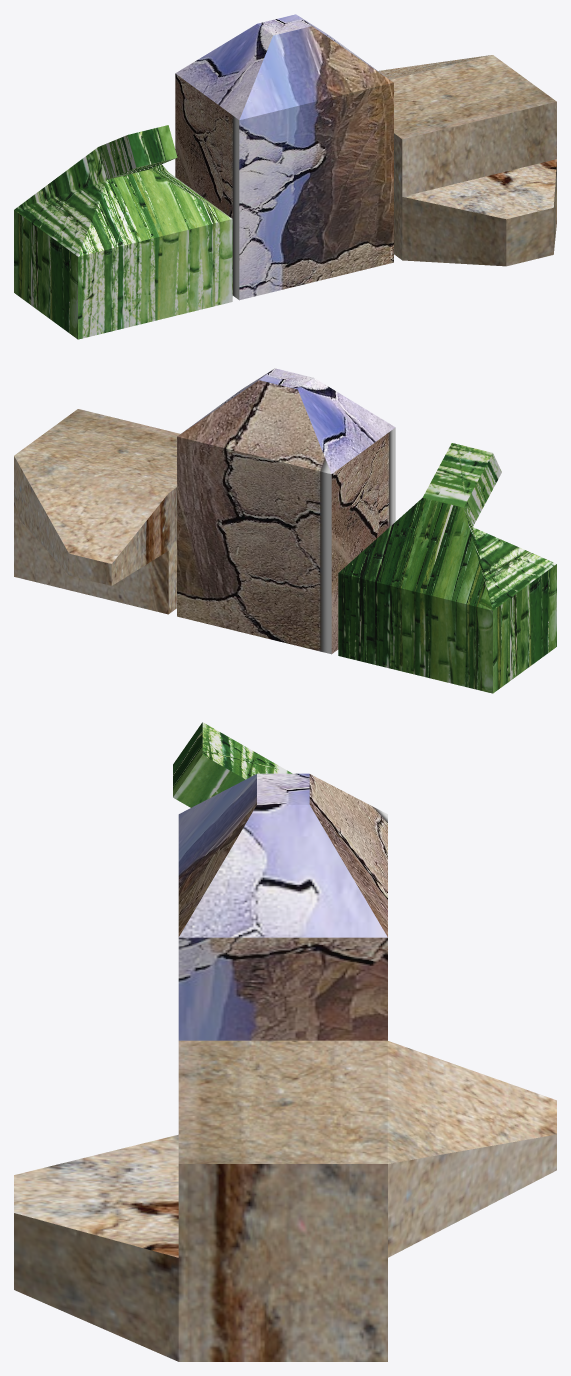
The model's file is submeshes.DAE.
3 views of the same model, one above another, from view 1: azimuth 30°, elevation 25°; view 2: azimuth 150°, elevation 25°; view 3: azimuth 270°, elevation 25° (orthographic). The views are drawn at different scales.
Visible parts, largest first — view 1: geoOcean_PIVOT, geoGrass_PIVOT, geoRock_PIVOT; view 2: geoOcean_PIVOT, geoGrass_PIVOT, geoRock_PIVOT; view 3: geoRock_PIVOT, geoOcean_PIVOT, geoGrass_PIVOT.
Boxes of the visible parts, x1,y1,x2,y2 form: geoOcean_PIVOT: [175, 14, 393, 300]; geoGrass_PIVOT: [14, 125, 232, 339]; geoRock_PIVOT: [378, 55, 556, 266]; geoOcean_PIVOT: [177, 368, 395, 654]; geoGrass_PIVOT: [338, 443, 556, 693]; geoRock_PIVOT: [14, 409, 180, 614]; geoRock_PIVOT: [14, 1040, 556, 1361]; geoOcean_PIVOT: [178, 773, 387, 1040]; geoGrass_PIVOT: [173, 722, 292, 807].
Bounding box in the file's own units: 322 × 194 × 150.
3 materials, 3 textured.
